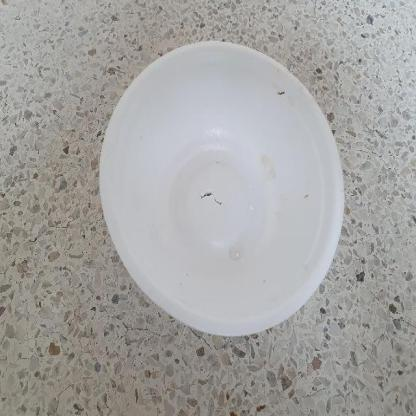Glass Cup: (100, 40, 347, 338), (99, 41, 344, 336)
